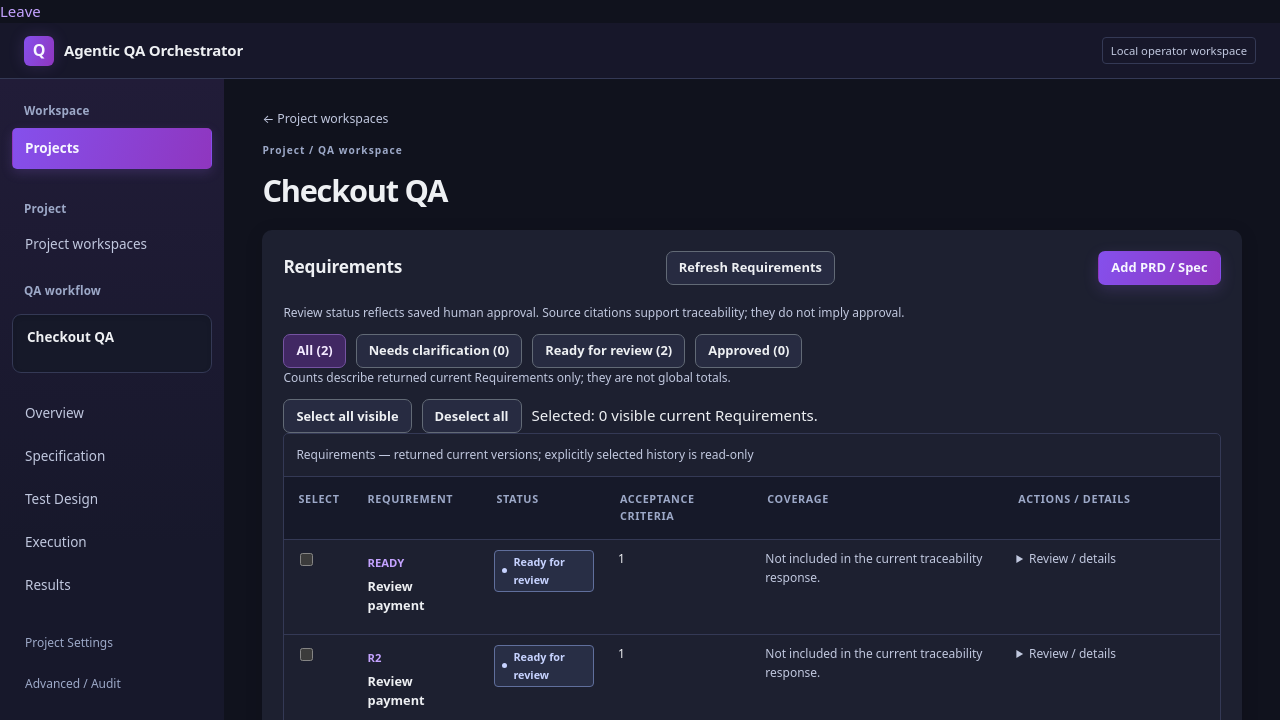
Scenario: Requirements work table › stops remaining approvals after authorization failure without automatic retry
Click the button "Select all visible".
click(348, 416)  # box [283,399,412,433]
(page scrolled)
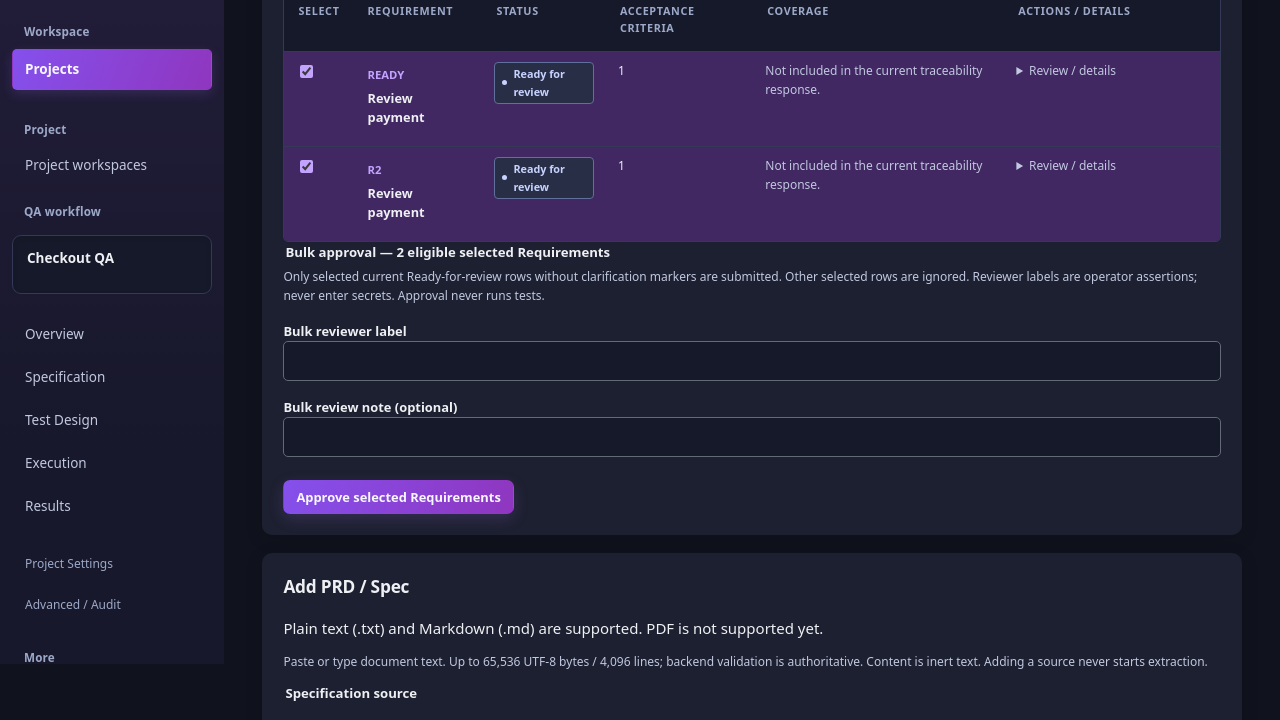
Type "qa-human" into the field labelled "Bulk reviewer label".
click(752, 361); type("qa-human")  # box [283,341,1221,381]
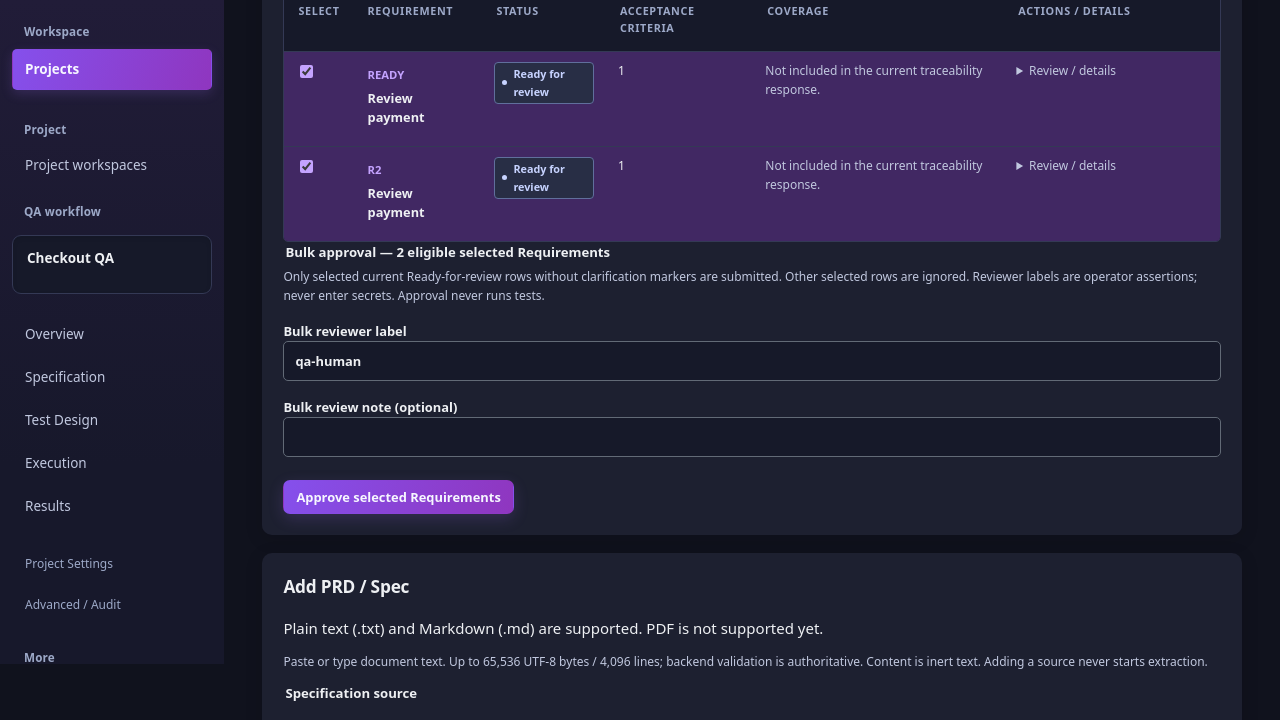
Submit the form named "Bulk approve Requirements", box [283,242,1221,514]
(page scrolled)
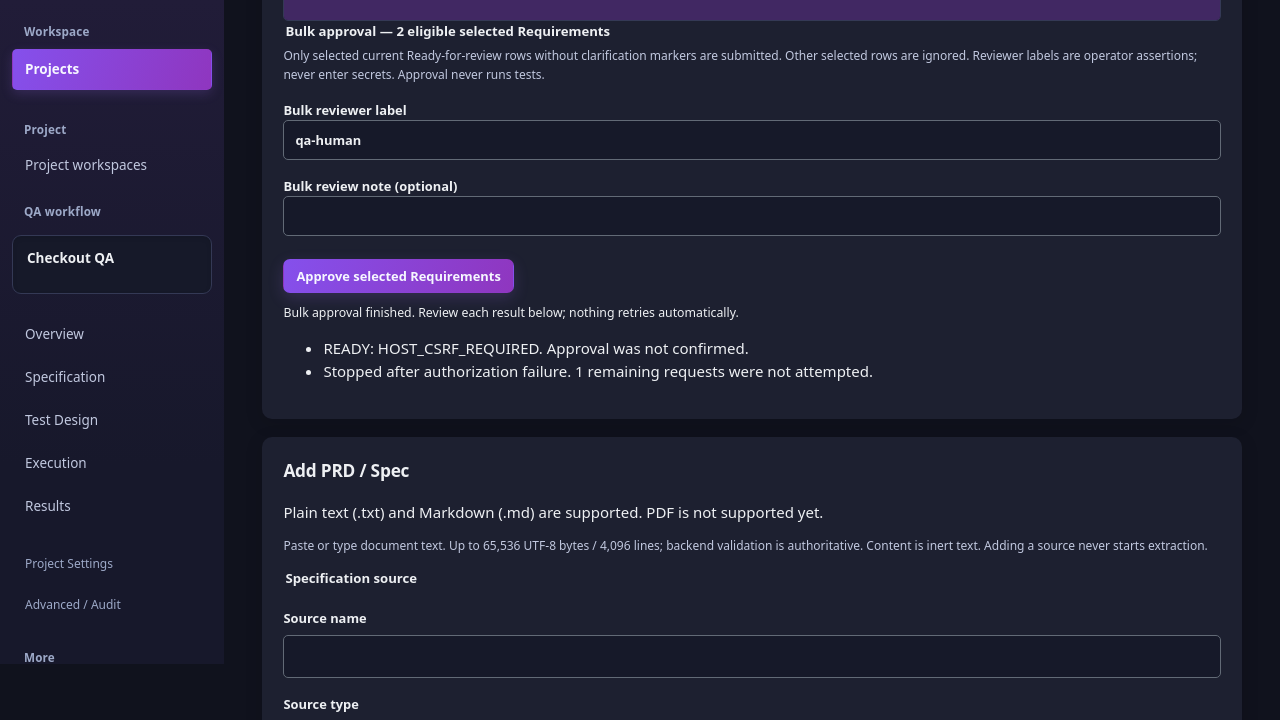
Expected: the list named "Bulk approval results" shows "1 remaining requests were not attempted", [323,361,873,381]
